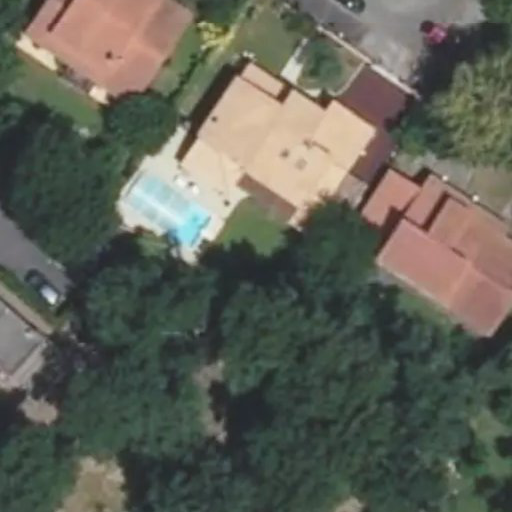pool: (205, 234, 306, 249)
